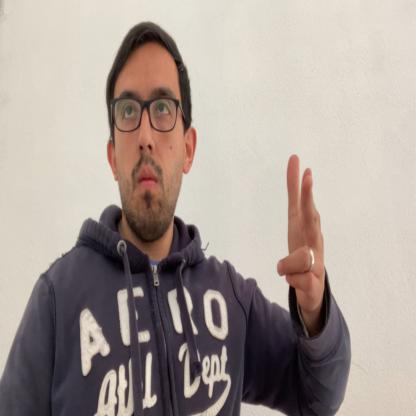H: (276, 152, 326, 311)
